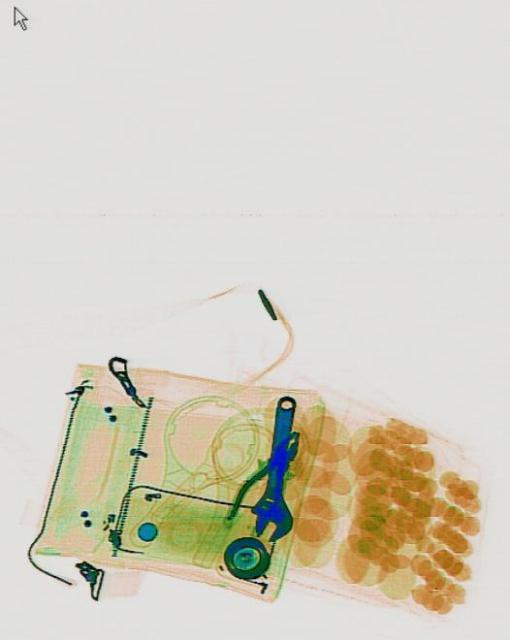Pliers: (220, 417, 310, 541)
Wrench: (245, 392, 303, 544)
